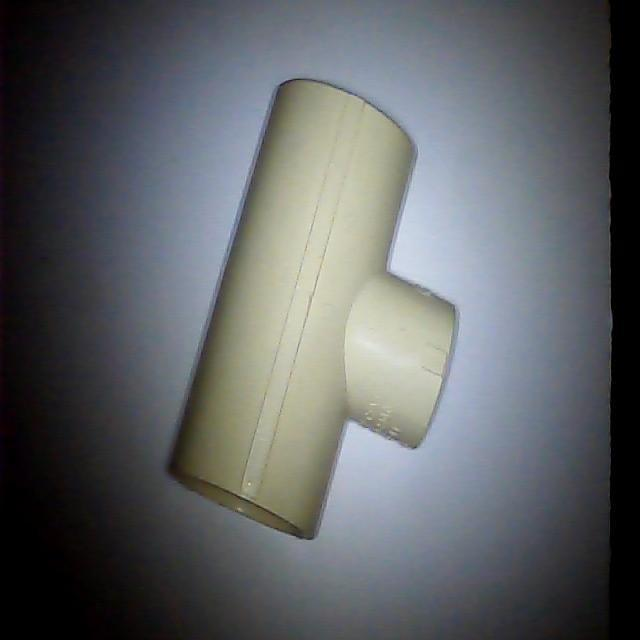T Joint: (166, 78, 460, 543)
